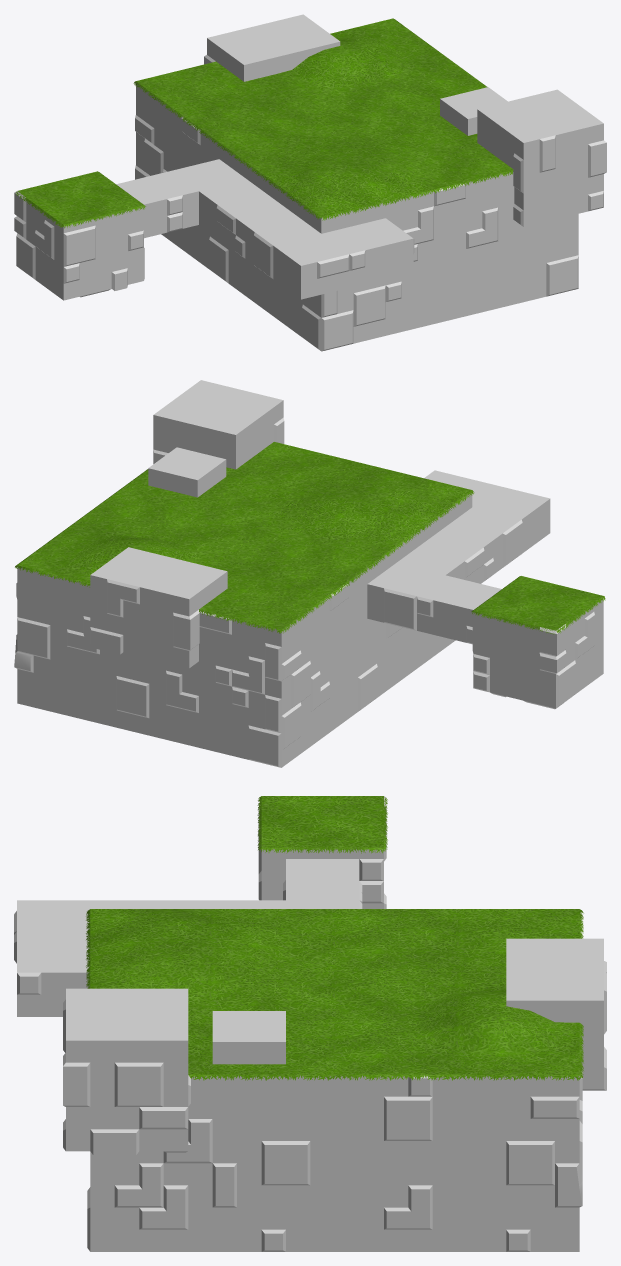
File: SM_world_0_01.fbx
The picture shows the model from 3 angles, top to bottom: view 1: azimuth 30°, elevation 25°; view 2: azimuth 150°, elevation 25°; view 3: azimuth 270°, elevation 25°; orthographic projection. The views are drawn at different scales.
Parts seen in each view (by area): view 1: Hub_Main; view 2: Hub_Main; view 3: Hub_Main.
Part boxes in pixels (<box>): Hub_Main: <box>14,14,606,351</box>; Hub_Main: <box>14,380,605,767</box>; Hub_Main: <box>14,796,606,1251</box>.
Size of the model in its own units: 73.3 by 60.6 by 25.
